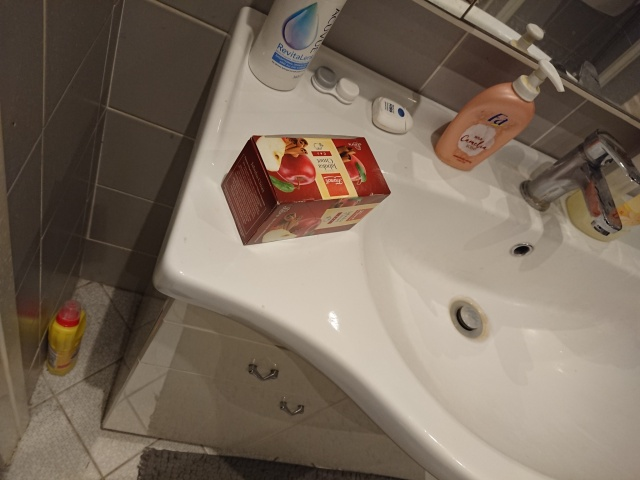Franck Apple Cinnamon Tea 60g: (218, 130, 394, 248)
